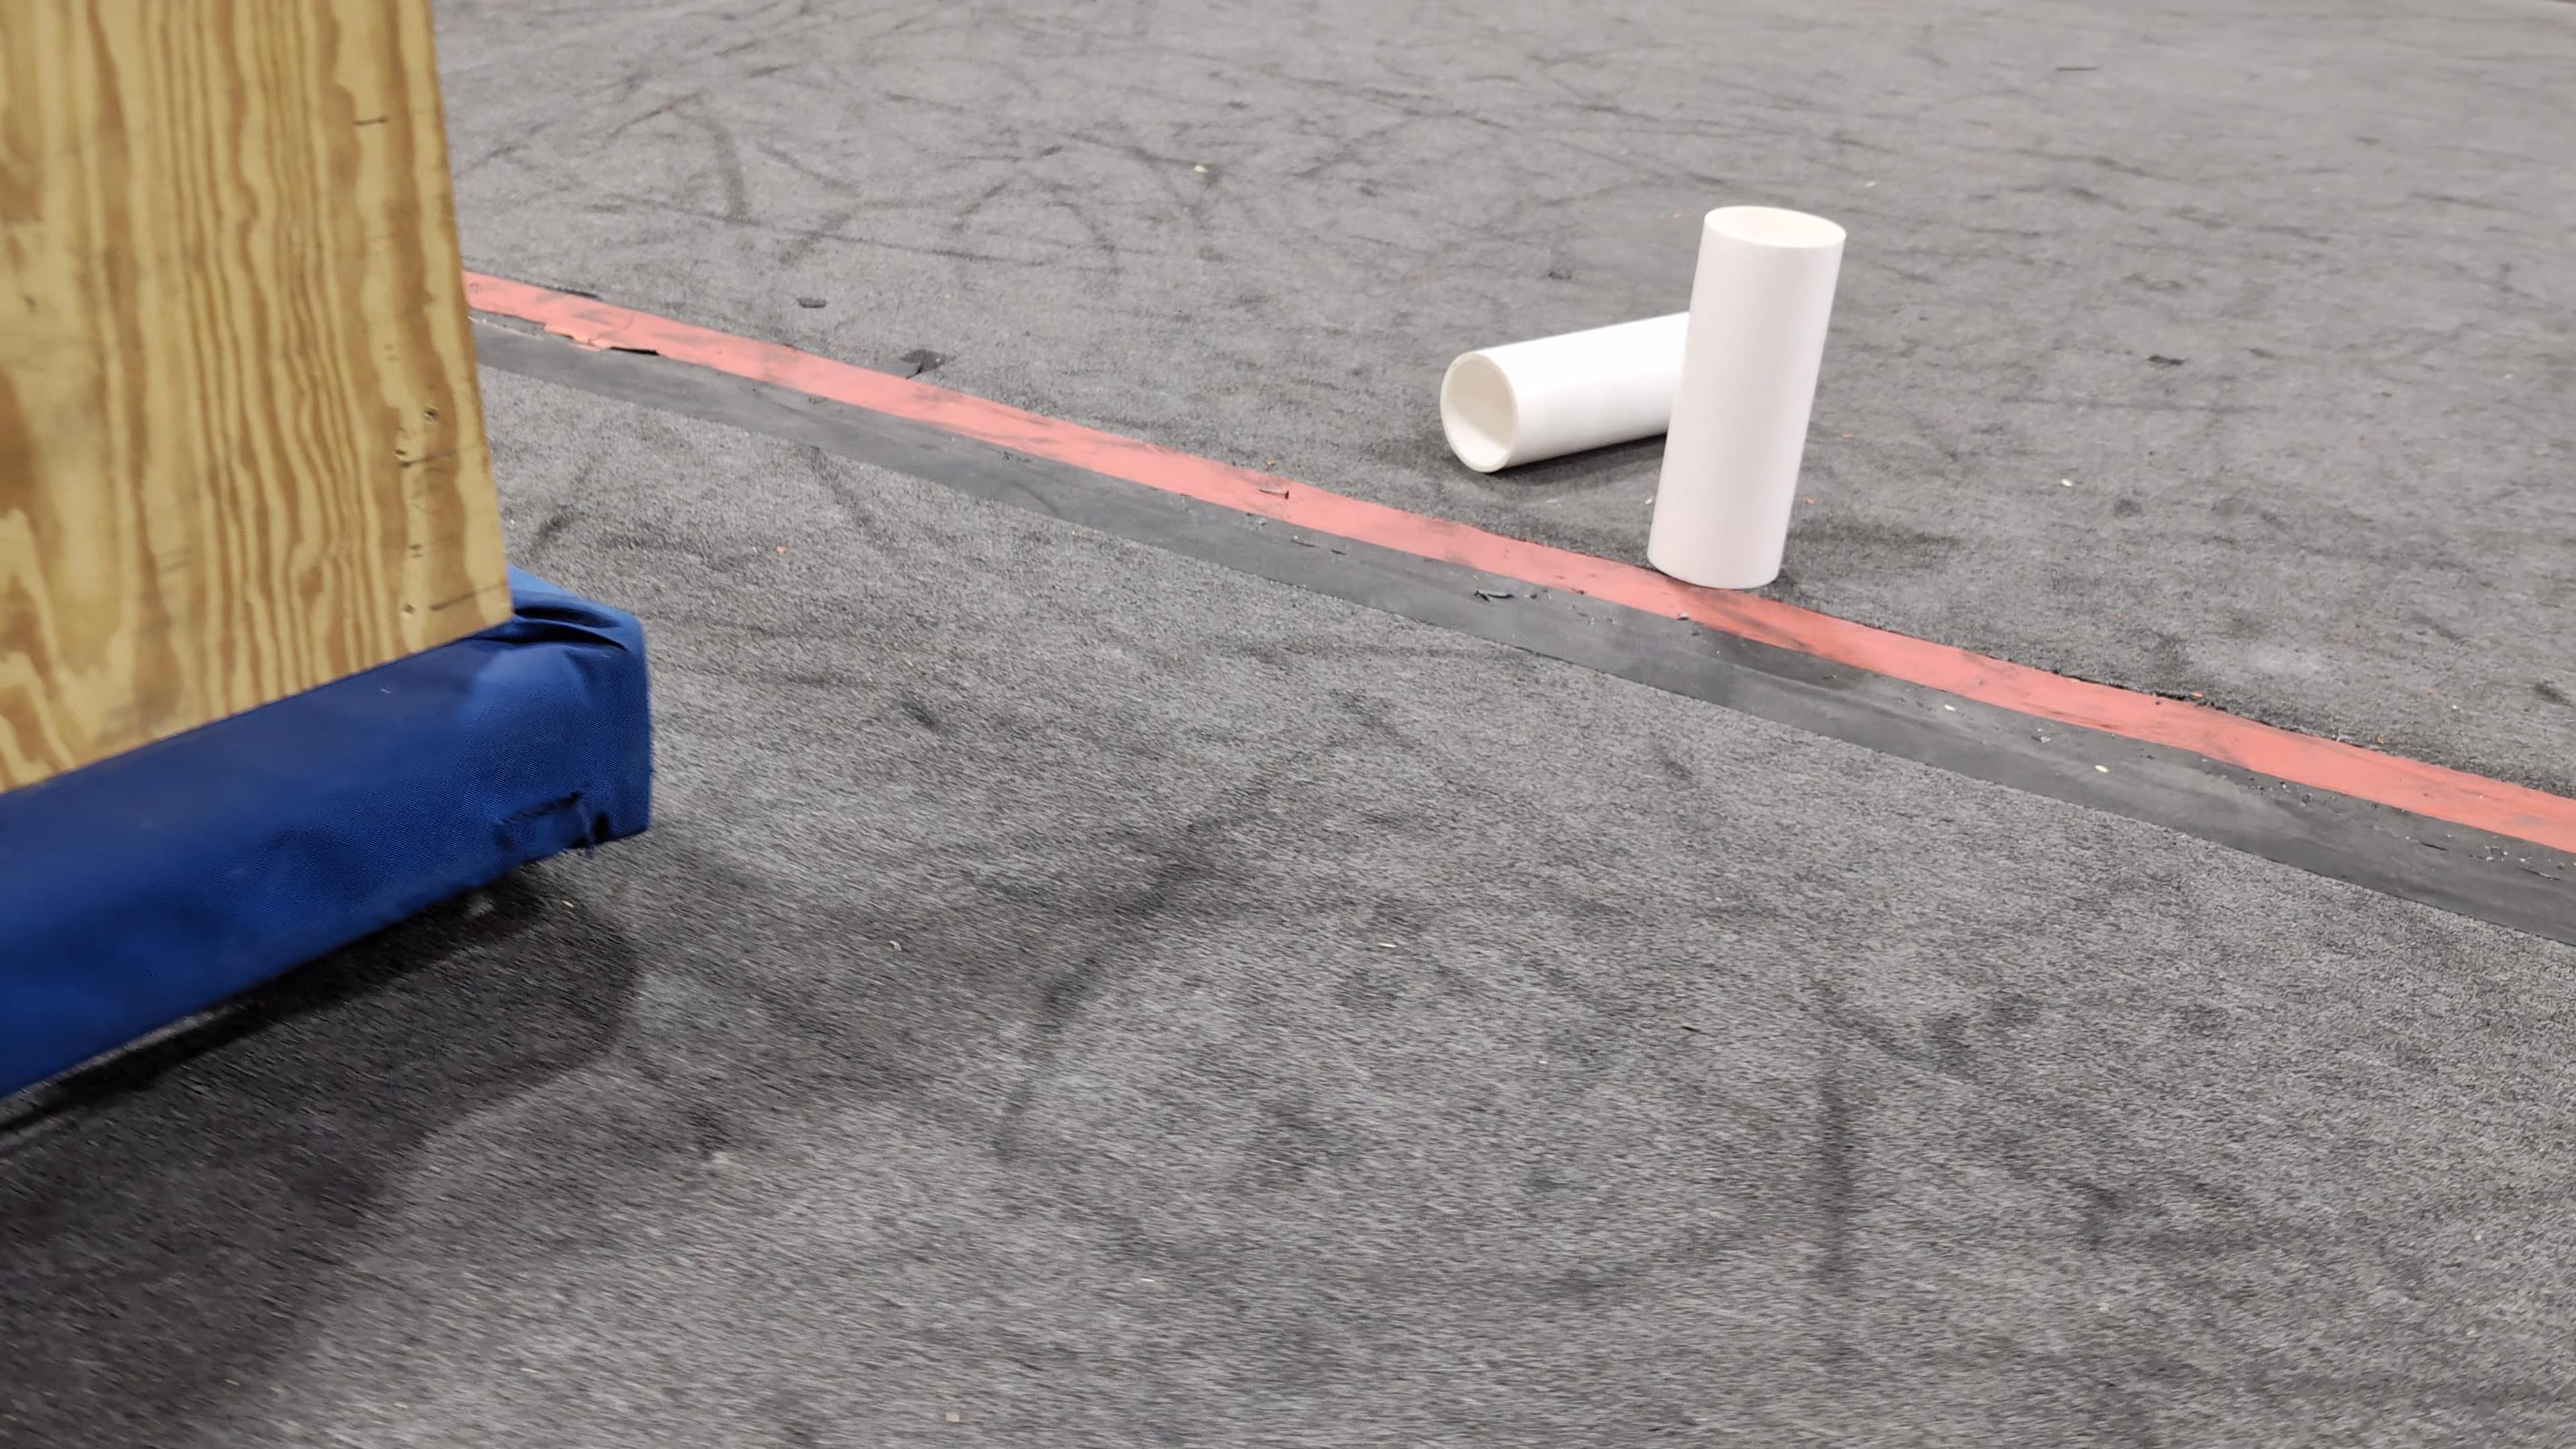coral: (1647, 205, 1847, 591), (1442, 311, 1695, 472)
